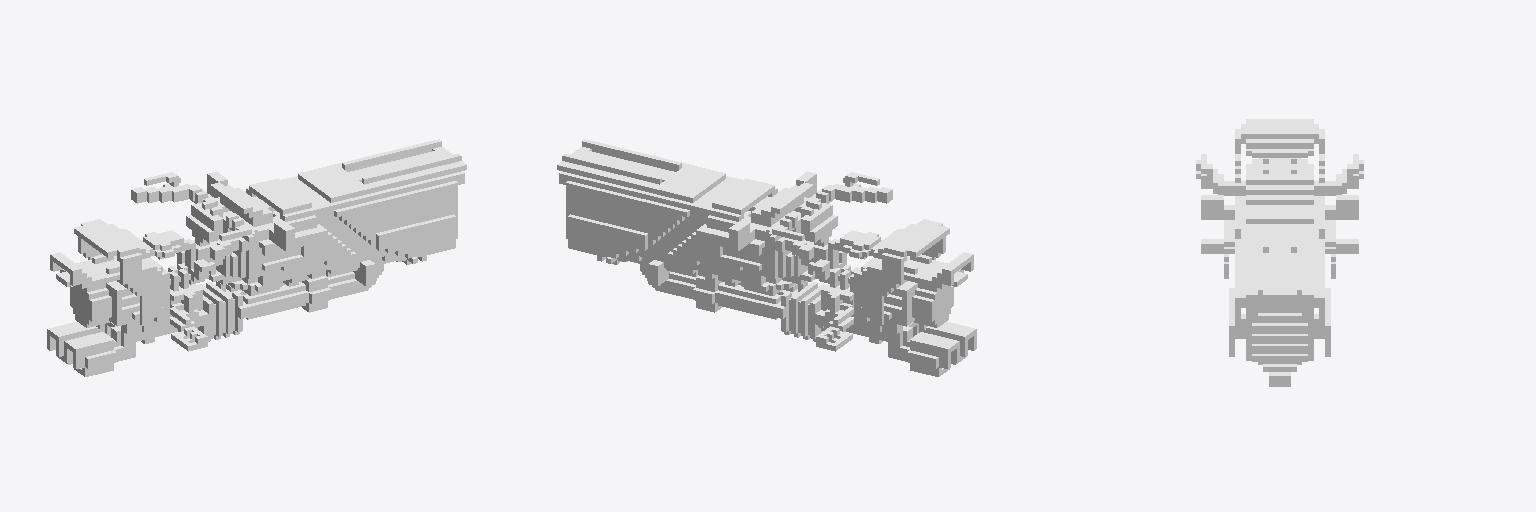
The model's file is Tracer-0-Tracer.obj.
3 views of the same model, side by side, from view 1: azimuth 30°, elevation 25°; view 2: azimuth 150°, elevation 25°; view 3: azimuth 270°, elevation 25° (orthographic).
Parts seen in each view (by area): view 1: Tracer; view 2: Tracer; view 3: Tracer.
Part boxes in pixels (left/top/right/bottom): Tracer: left=47, top=139, right=466, bottom=376; Tracer: left=557, top=139, right=976, bottom=376; Tracer: left=1196, top=119, right=1363, bottom=386.
Size of the model in its own units: 8 by 2.6 by 3.